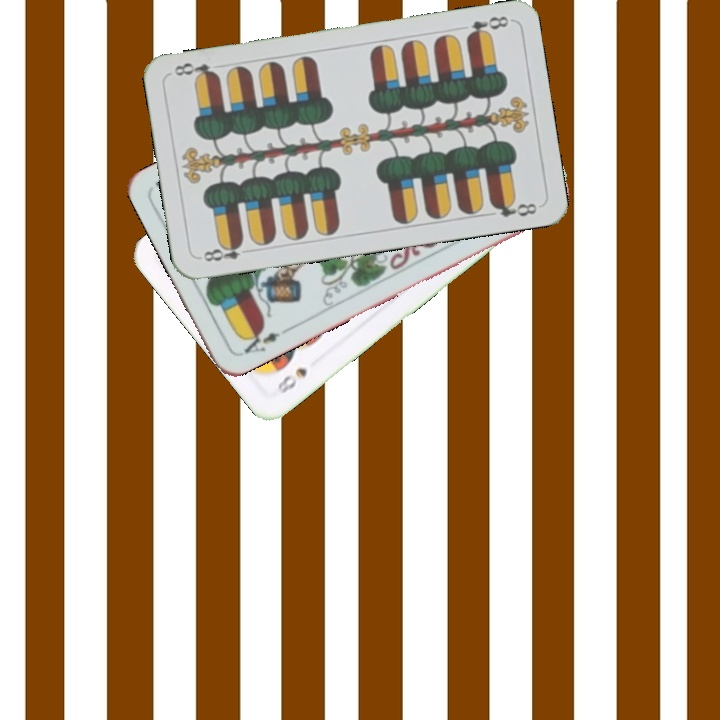E8: (199, 237, 255, 264), (462, 12, 511, 42)
EA: (236, 323, 290, 359)
S8: (273, 363, 310, 397)
